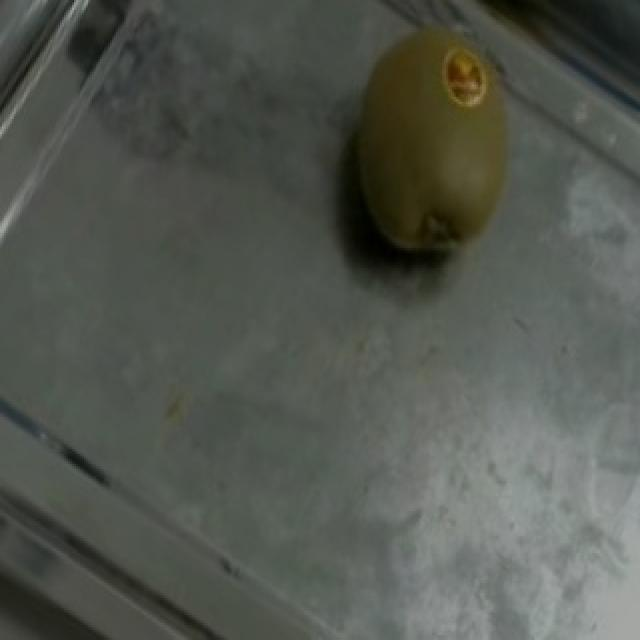Fruit: (294, 0, 560, 295)
